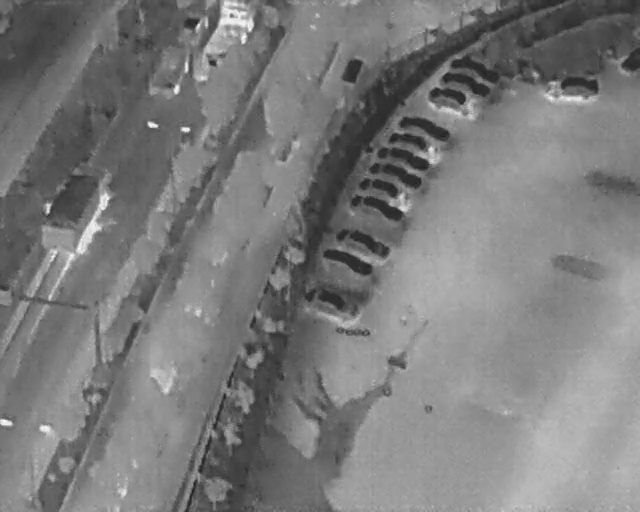Car: (300, 279, 365, 324), (352, 168, 416, 213), (346, 187, 411, 230), (316, 240, 379, 284), (421, 80, 485, 123), (445, 48, 508, 91), (333, 221, 396, 263), (437, 63, 499, 104), (364, 155, 427, 195), (372, 138, 435, 178), (394, 108, 457, 147), (385, 124, 444, 163), (542, 74, 601, 102), (178, 6, 208, 39), (620, 49, 639, 75)
OtherVehicle: (30, 150, 124, 264), (198, 0, 260, 83), (144, 37, 195, 102)
